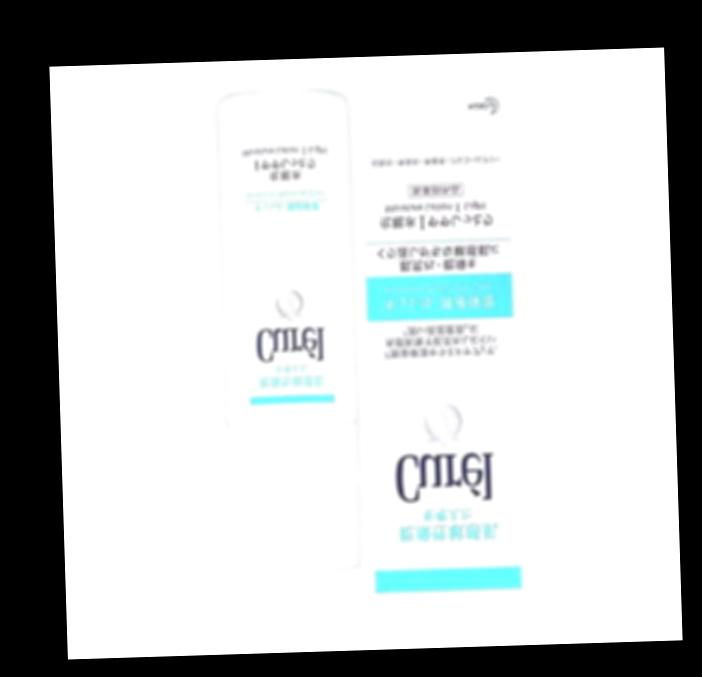cosmetic: (216, 100, 366, 572)
